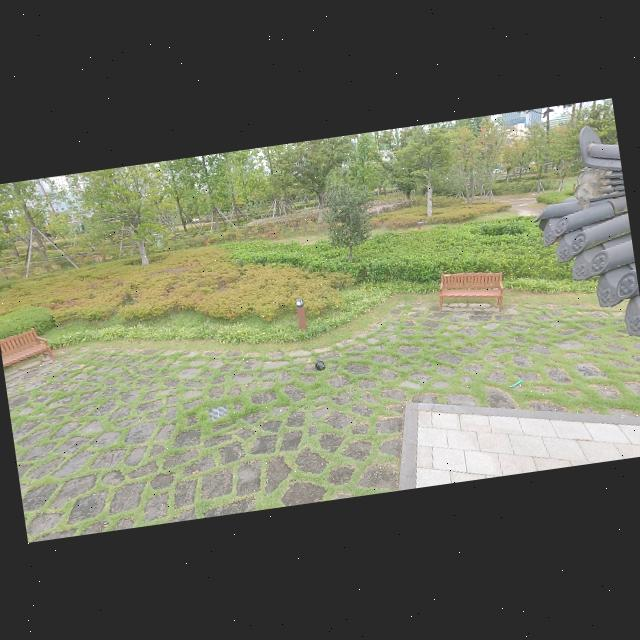trash: (314, 358, 326, 371)
